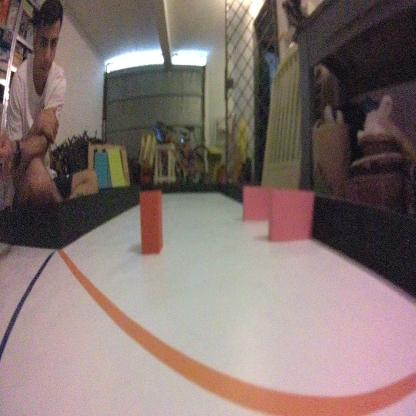magenta: (267, 186, 315, 245), (239, 180, 273, 219)
red: (138, 189, 164, 259)
